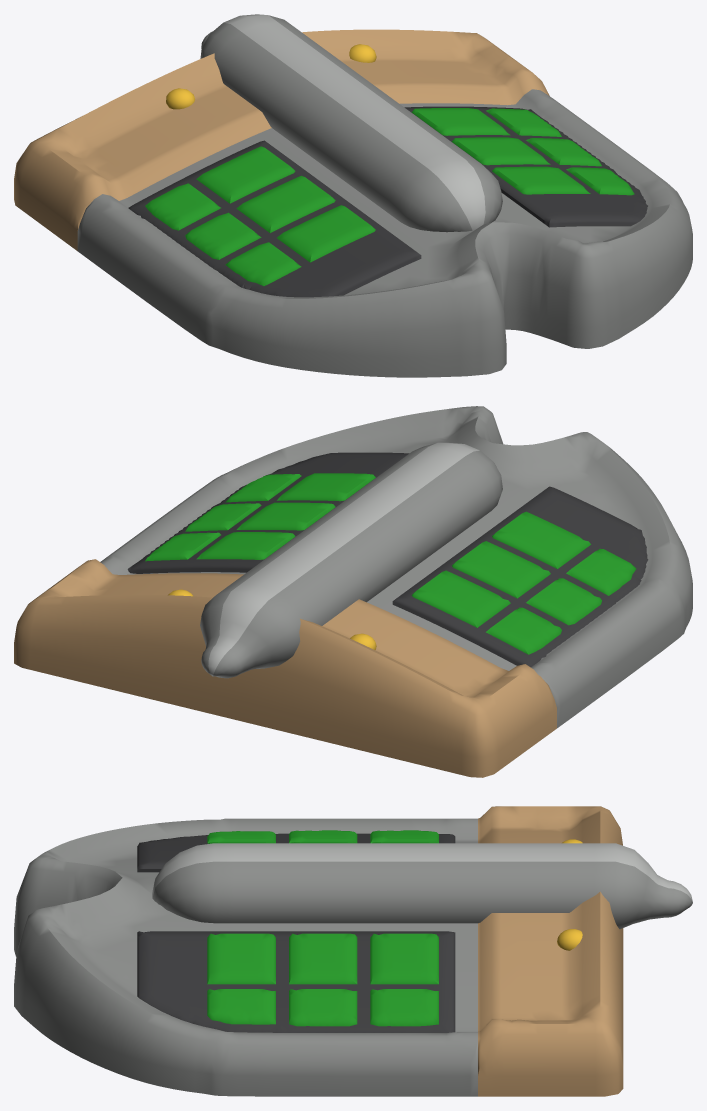
Rendered from store_shield_solar.glb.
The picture shows the model from 3 angles, top to bottom: view 1: azimuth 30°, elevation 25°; view 2: azimuth 150°, elevation 25°; view 3: azimuth 270°, elevation 25°; orthographic projection.
Parts seen in each view (by area): view 1: shield_steel, shield_bronze, spine, shield_green_solar, shield_steel_dark, shield_gold; view 2: shield_bronze, shield_steel, spine, shield_green_solar, shield_steel_dark; view 3: shield_steel, spine, shield_bronze, shield_green_solar, shield_steel_dark, shield_gold.
Boxes of the visible parts, x1,y1,x2,y2 form: shield_steel: (77,89,692,377); shield_bronze: (14,29,549,250); spine: (200,14,502,232); shield_green_solar: (145,108,634,285); shield_steel_dark: (128,106,647,297); shield_gold: (166,44,376,109); shield_bronze: (14,559,556,777); shield_steel: (100,406,692,728); spine: (200,442,502,678); shield_green_solar: (145,473,636,654); shield_steel_dark: (127,452,648,667); shield_steel: (14,818,477,1096); spine: (152,843,692,929); shield_bronze: (478,806,623,1096); shield_green_solar: (207,830,438,1026); shield_steel_dark: (137,833,455,1032); shield_gold: (557,839,582,950).
Size of the model in its own units: 17.23 by 4.35 by 20.82.
